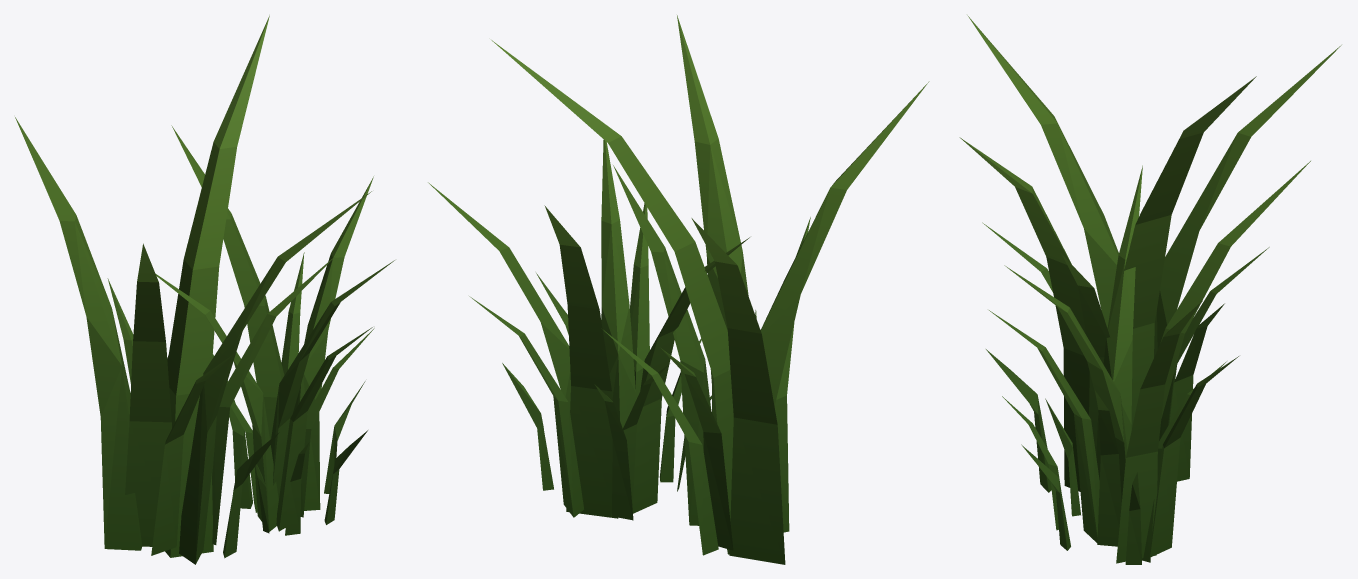
File: Grass_5.fbx
3 renders of one model, left to right at view 1: azimuth 30°, elevation 25°; view 2: azimuth 150°, elevation 25°; view 3: azimuth 270°, elevation 25°, orthographic. The views are drawn at different scales.
Parts seen in each view (by area): view 1: Grass_5; view 2: Grass_5; view 3: Grass_5.
Boxes of the visible parts, box(x1,y1,x2,y2) form: Grass_5: box(15, 15, 394, 564); Grass_5: box(428, 15, 929, 564); Grass_5: box(959, 15, 1341, 564).
Bounding box in the file's own units: 69.83 × 89.16 × 62.13.
